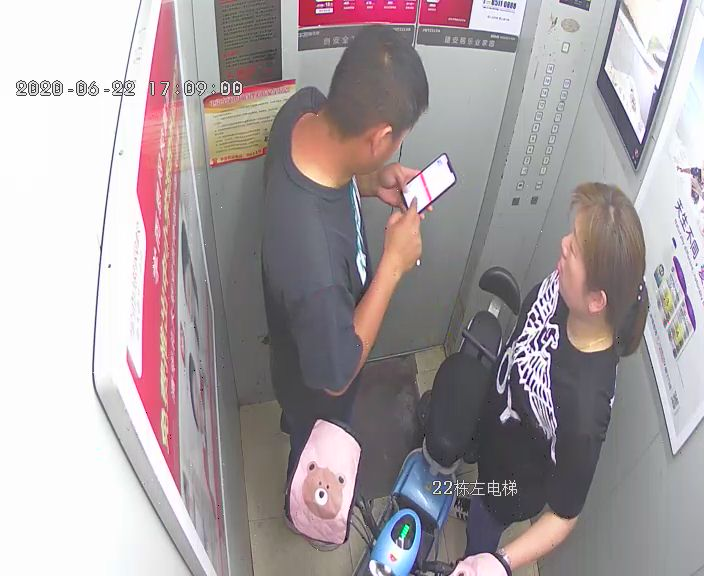Electric-bicycle: (333, 266, 519, 576)
